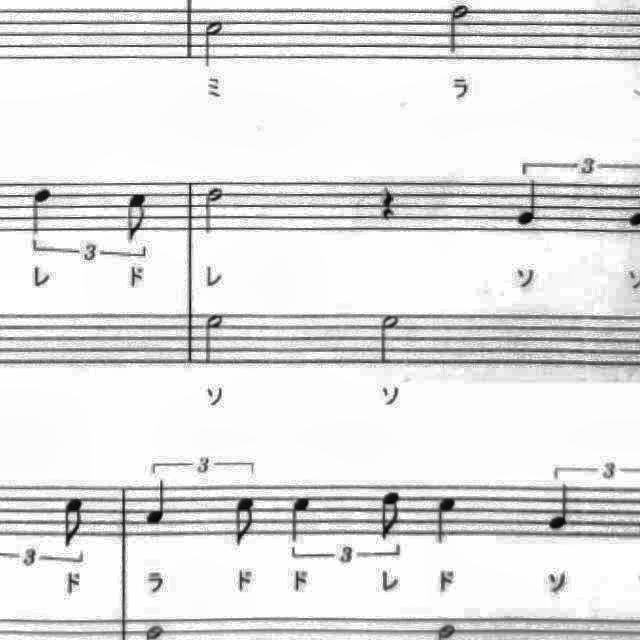Eighth-note: (374, 486, 411, 550), (226, 491, 264, 553), (120, 186, 156, 246), (56, 494, 92, 554), (624, 180, 640, 232)
Half-note: (440, 0, 479, 60), (371, 308, 407, 370), (196, 12, 232, 72), (198, 308, 230, 372), (198, 182, 230, 240)
Quarter-note: (429, 488, 467, 552), (541, 479, 581, 537), (282, 490, 318, 550), (142, 474, 178, 530), (23, 182, 59, 238), (512, 176, 548, 232)
Quarter-rest: (371, 178, 402, 226)
